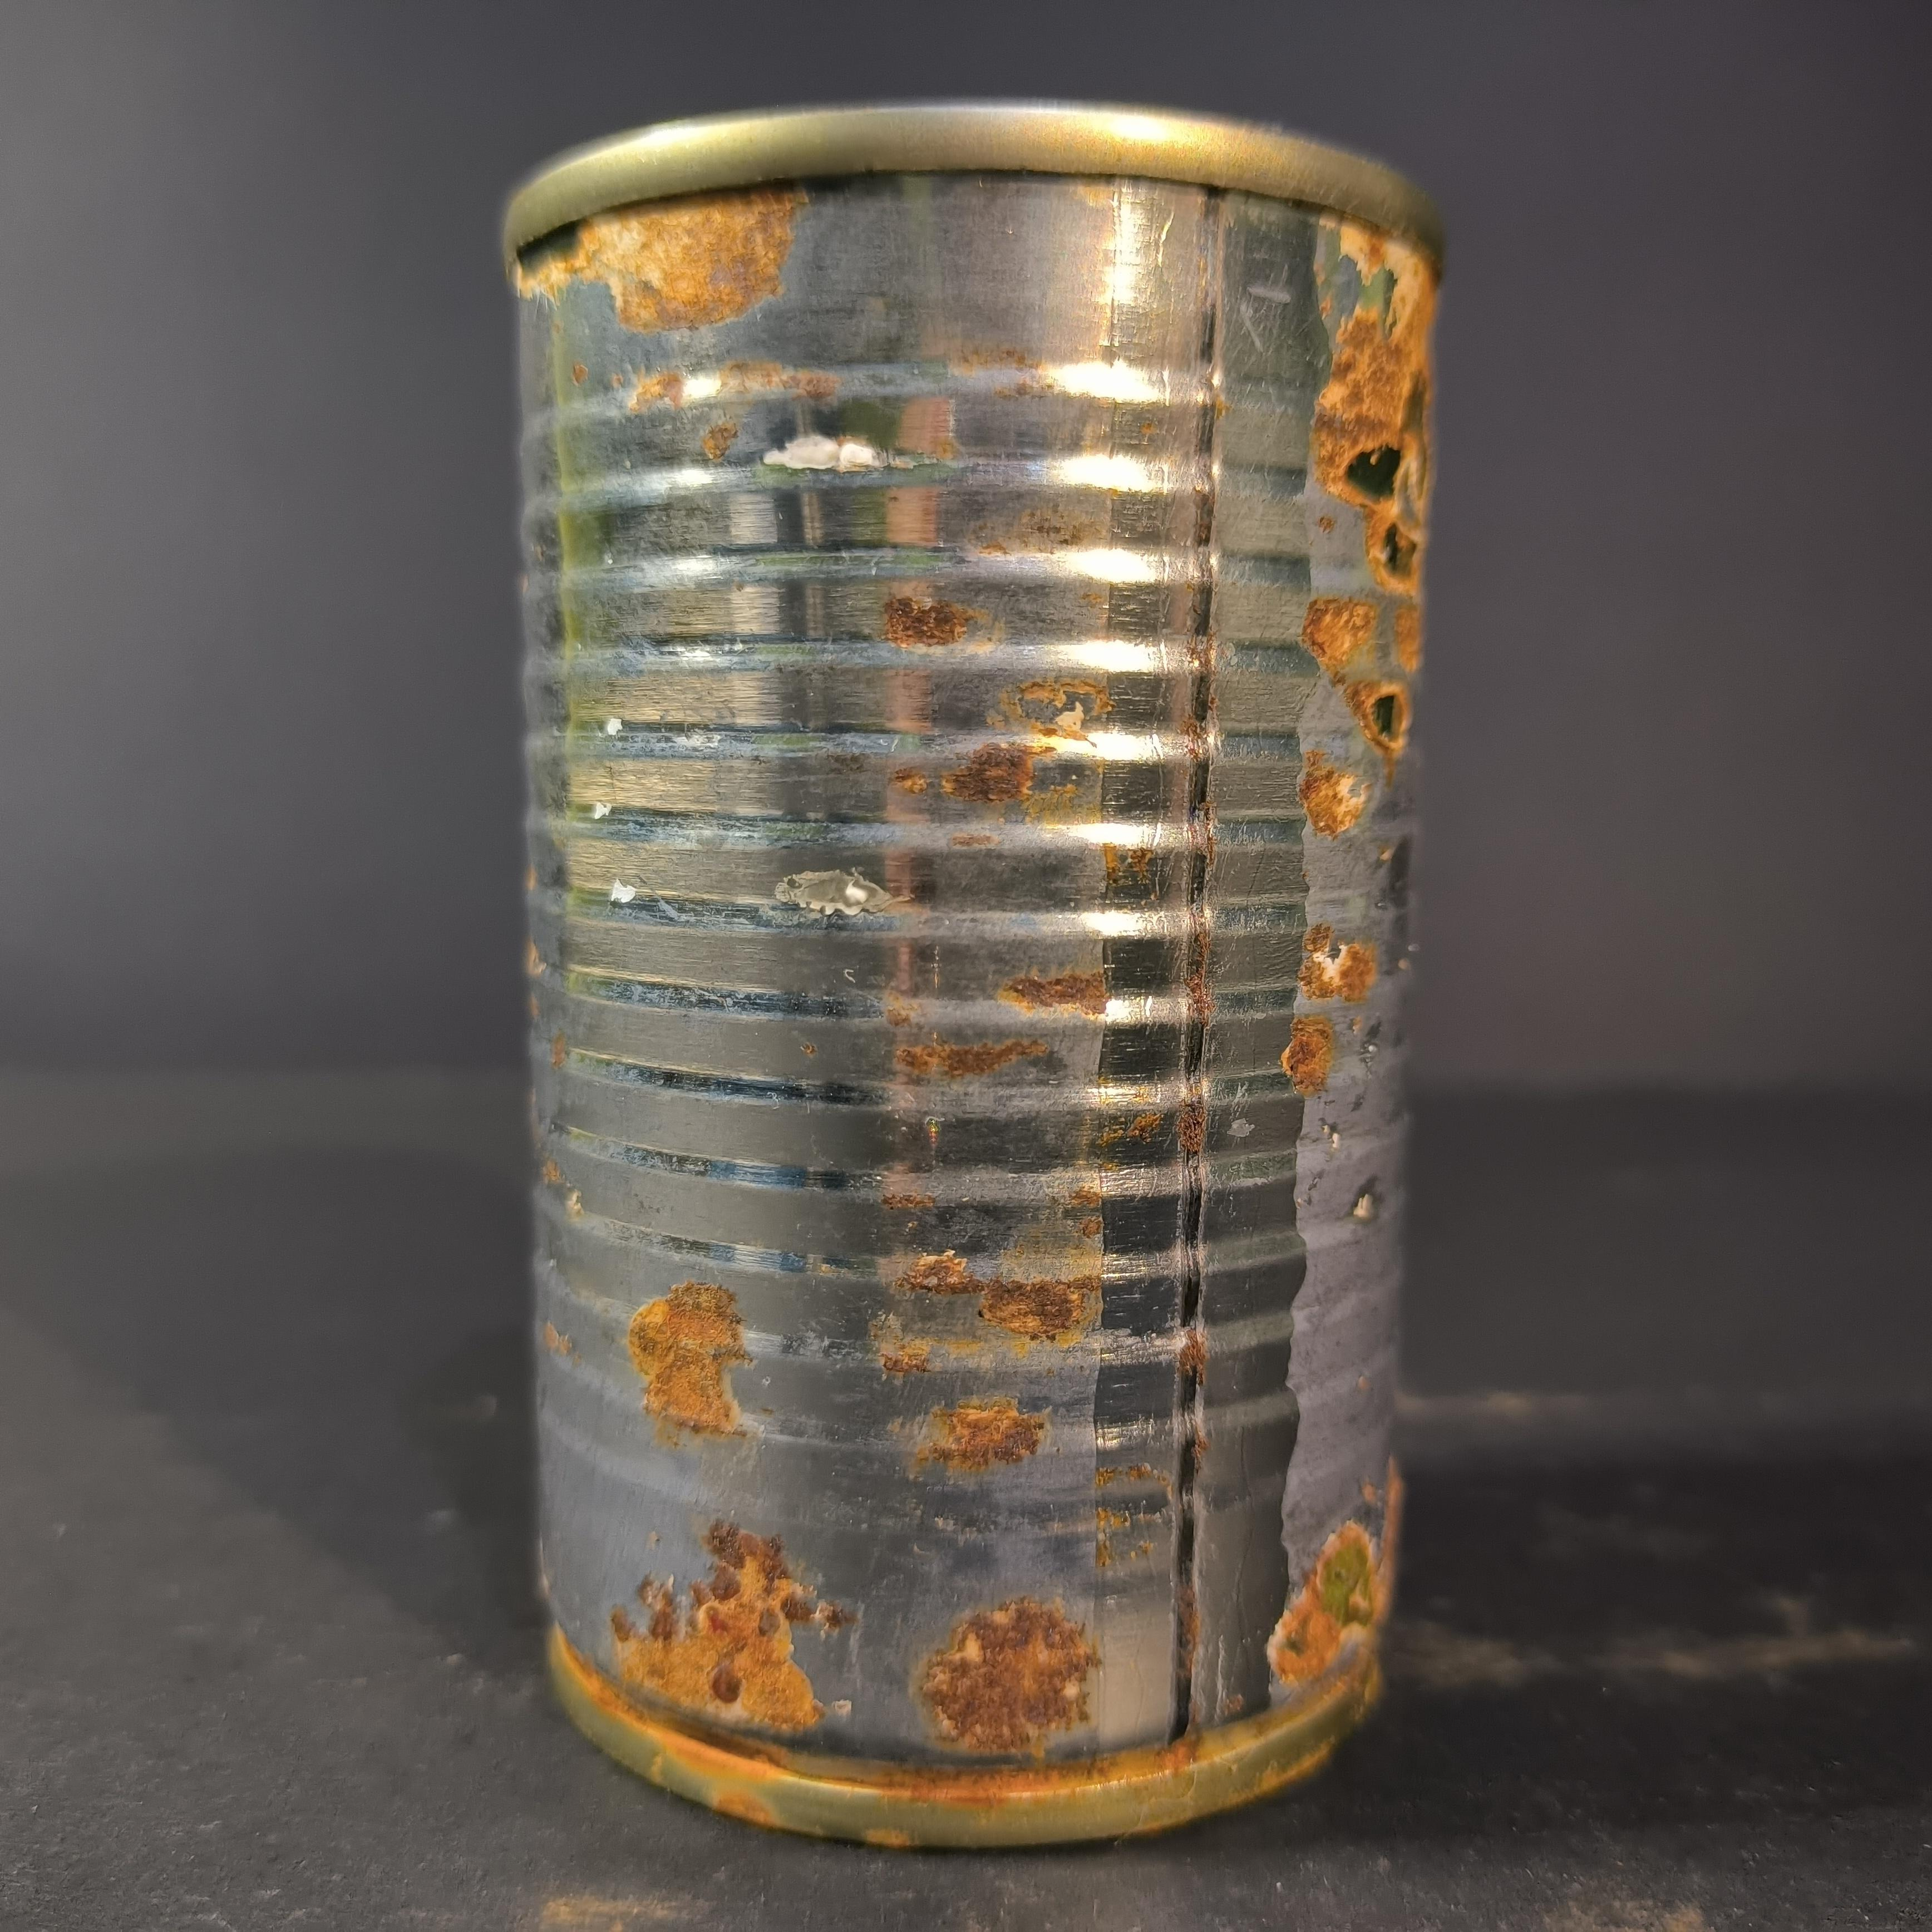Rusted: (490, 74, 1453, 1828)
